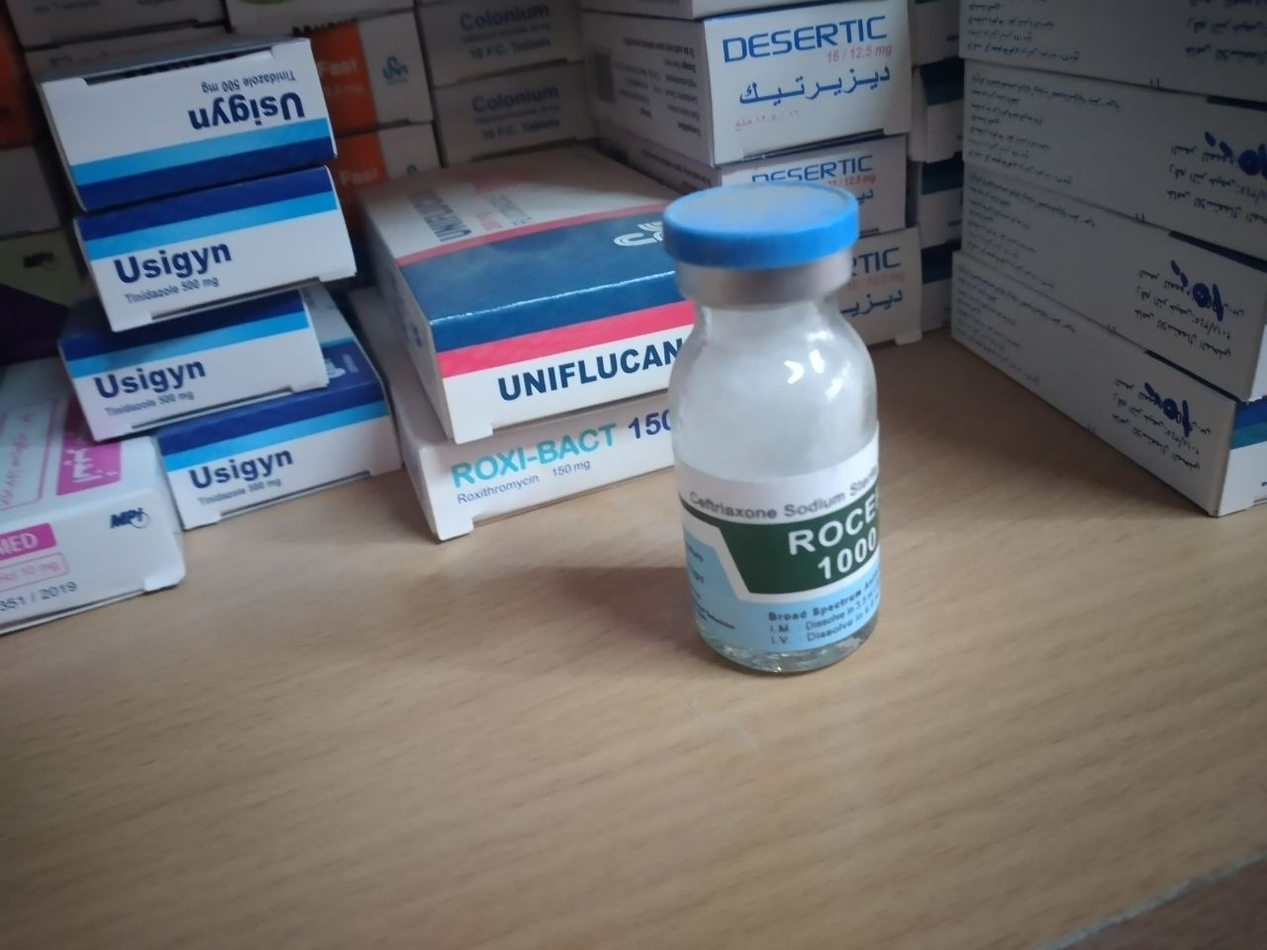Medicine: (643, 163, 896, 705), (349, 166, 735, 421), (948, 267, 1267, 539), (953, 158, 1267, 418), (955, 47, 1267, 262), (0, 336, 191, 621), (30, 27, 346, 195), (62, 163, 379, 307), (418, 388, 725, 529), (596, 15, 935, 139), (950, 0, 1267, 126), (42, 307, 339, 433), (153, 398, 416, 522), (411, 0, 591, 163)
